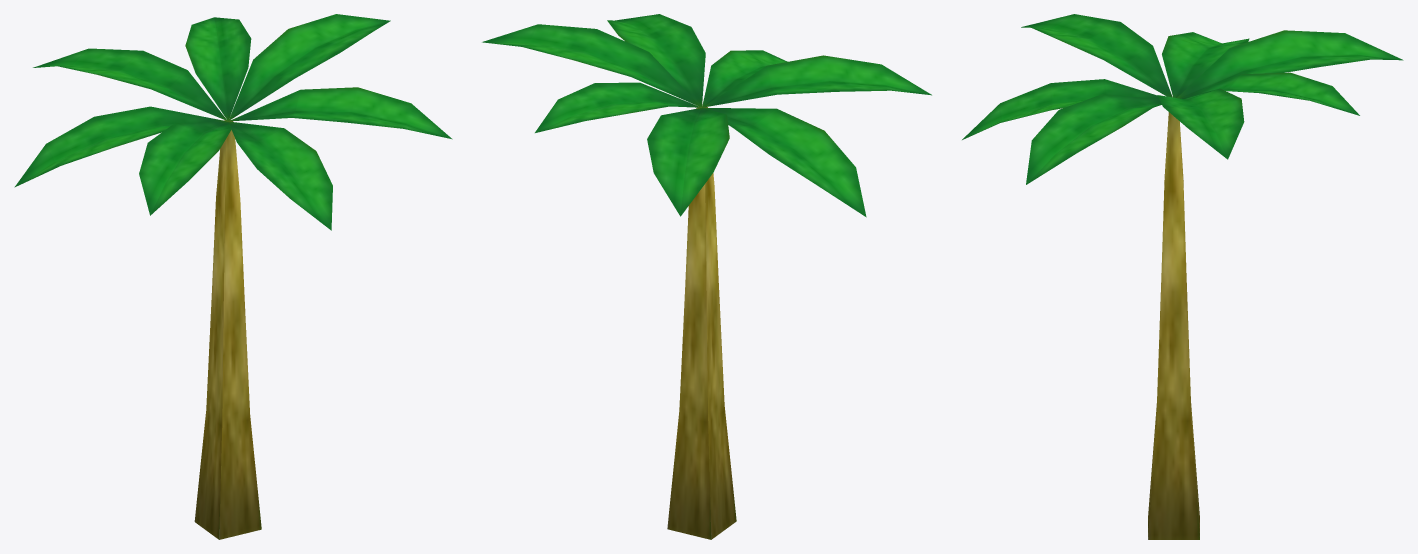
The model's file is tree_0.glb.
The picture shows the model from 3 angles, left to right: view 1: azimuth 30°, elevation 25°; view 2: azimuth 150°, elevation 25°; view 3: azimuth 270°, elevation 25°; orthographic projection. The views are drawn at different scales.
Parts seen in each view (by area): view 1: tree_0; view 2: tree_0; view 3: tree_0.
Part boxes in pixels (x1=…): tree_0: x1=14, y1=14, x2=452, y2=539; tree_0: x1=482, y1=14, x2=931, y2=539; tree_0: x1=962, y1=14, x2=1403, y2=539.
Size of the model in its own units: 2.45 by 2.83 by 2.37.
1 material, 1 textured.
